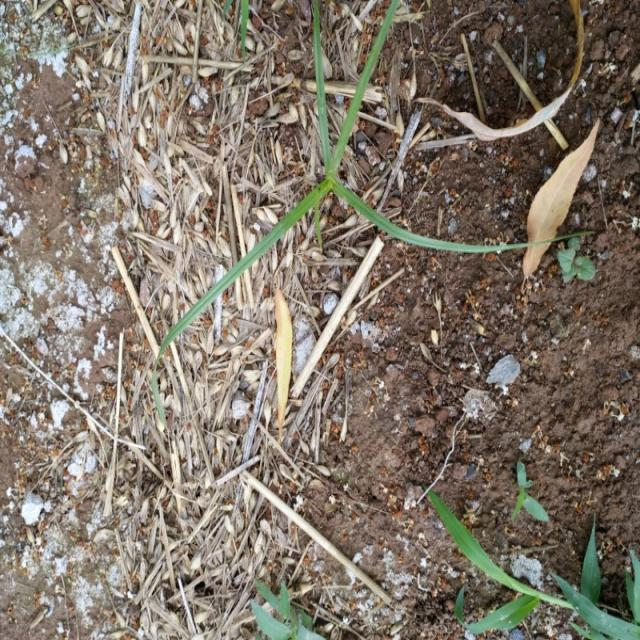sedge: (177, 20, 518, 367)
